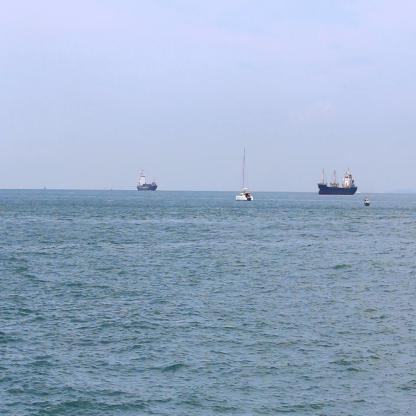Container Ship: (318, 166, 358, 196), (136, 169, 158, 192)
